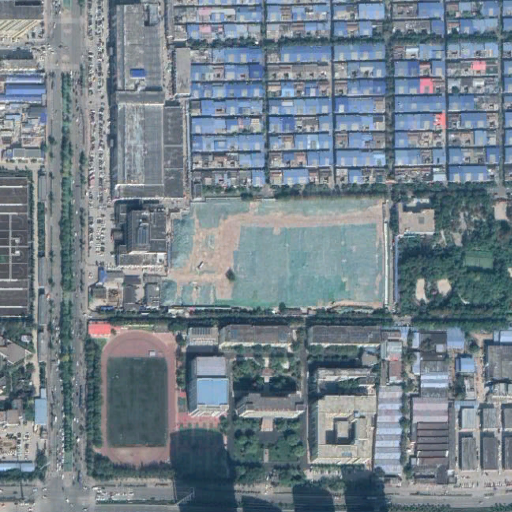cw: (164, 195, 388, 309)
